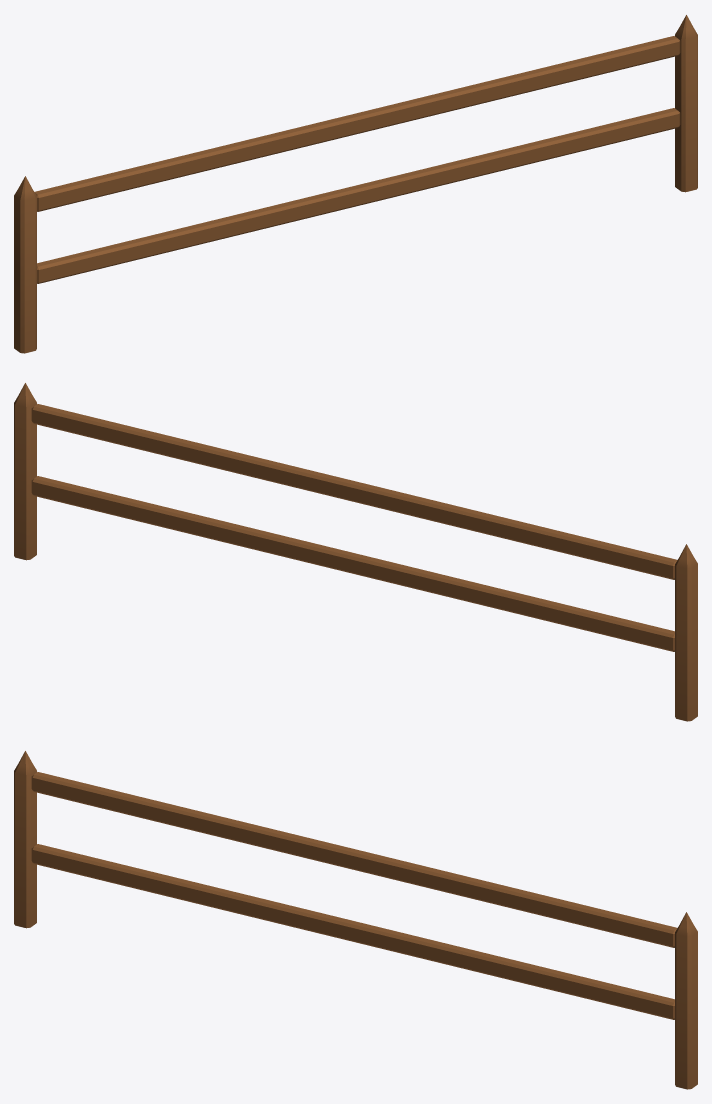
File: cerco_bajo.glb
3 views of the same model, one above another, from view 1: azimuth 30°, elevation 25°; view 2: azimuth 150°, elevation 25°; view 3: azimuth 330°, elevation 25° (orthographic).
Parts seen in each view (by area): view 1: cerco_bajo_cuerpo; view 2: cerco_bajo_cuerpo; view 3: cerco_bajo_cuerpo.
Boxes of the visible parts, bbox=[...] form: cerco_bajo_cuerpo: bbox=[14, 15, 697, 353]; cerco_bajo_cuerpo: bbox=[14, 383, 697, 721]; cerco_bajo_cuerpo: bbox=[14, 751, 697, 1089].
Size of what is drawn, in the model's own units: 2.46 by 0.6 by 0.06.
